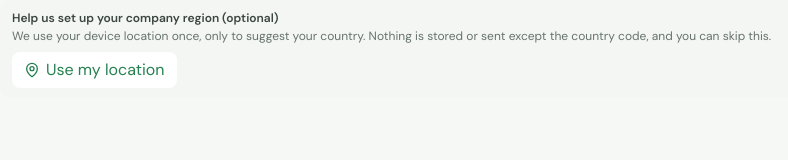
RegionalLocationOptIn › shows a calm message when location is unusable and stores nothing
Click the button "Use my location" at (94, 70), box left=12, top=52, right=176, bottom=88
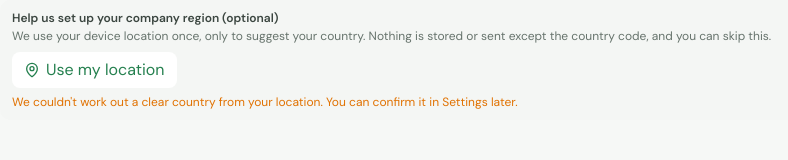
Check: the text "clear country" is shown, box left=12, top=94, right=518, bottom=110
